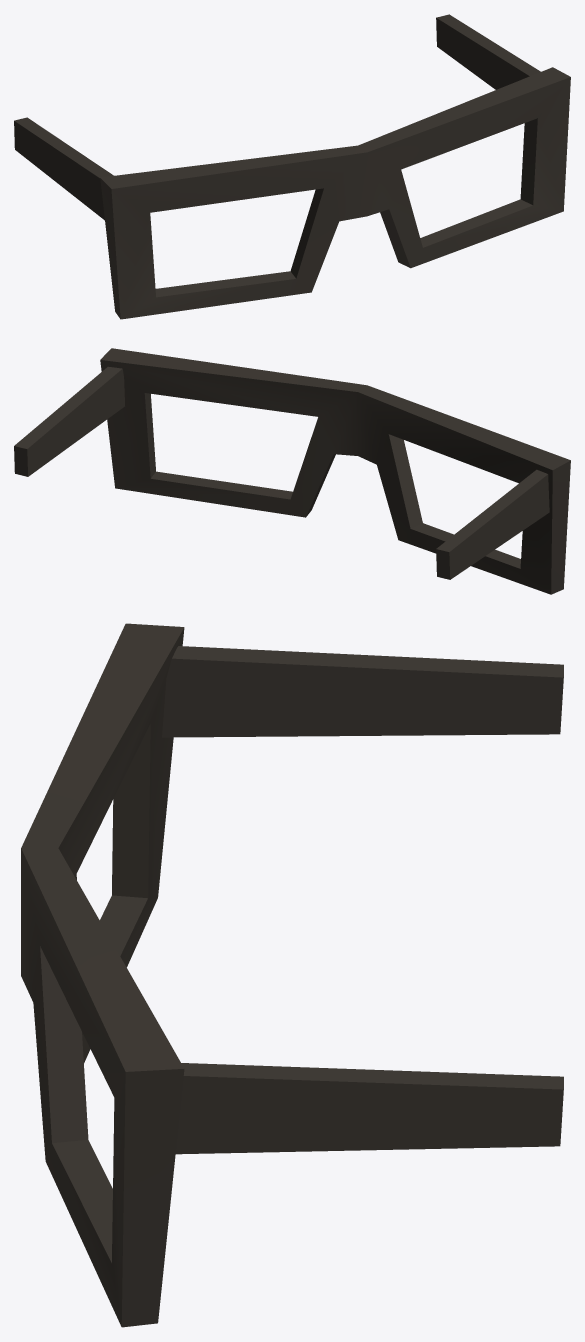
The picture shows the model from 3 angles, top to bottom: view 1: azimuth 30°, elevation 25°; view 2: azimuth 150°, elevation 25°; view 3: azimuth 270°, elevation 25°; orthographic projection. The views are drawn at different scales.
Visible parts, largest first — view 1: head_add_glasses_A; view 2: head_add_glasses_A; view 3: head_add_glasses_A.
Boxes of the visible parts, x1=… form: head_add_glasses_A: x1=14, y1=14, x2=570, y2=319; head_add_glasses_A: x1=14, y1=348, x2=570, y2=594; head_add_glasses_A: x1=21, y1=623, x2=563, y2=1327.
Size of the model in its own units: 0.5712 by 0.1577 by 0.2922.
